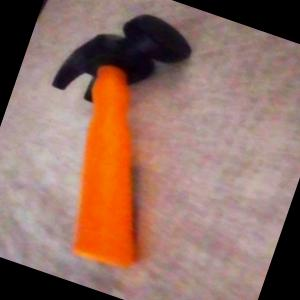martelo: (0, 0, 218, 274)
